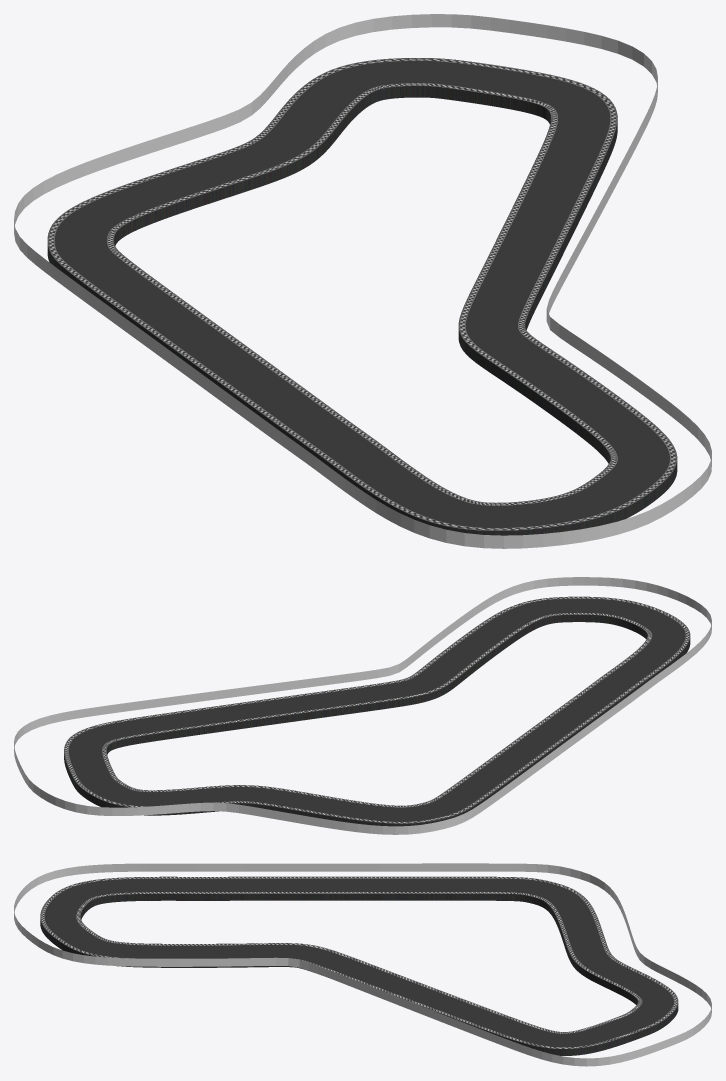
Rendered from SimpleRaceWay.fbx.
The picture shows the model from 3 angles, top to bottom: view 1: azimuth 30°, elevation 25°; view 2: azimuth 150°, elevation 25°; view 3: azimuth 270°, elevation 25°; orthographic projection. The views are drawn at different scales.
Visible parts, largest first — view 1: Plane, Plane.003; view 2: Plane, Plane.003; view 3: Plane, Plane.003.
Boxes of the visible parts, x1,y1,x2,y2 form: Plane: (47,58,677,535); Plane.003: (14,14,711,548); Plane: (64,596,690,826); Plane.003: (14,577,711,834); Plane: (40,876,678,1055); Plane.003: (14,863,711,1066).
Size of the model in its own units: 22847 by 813 by 34562.
